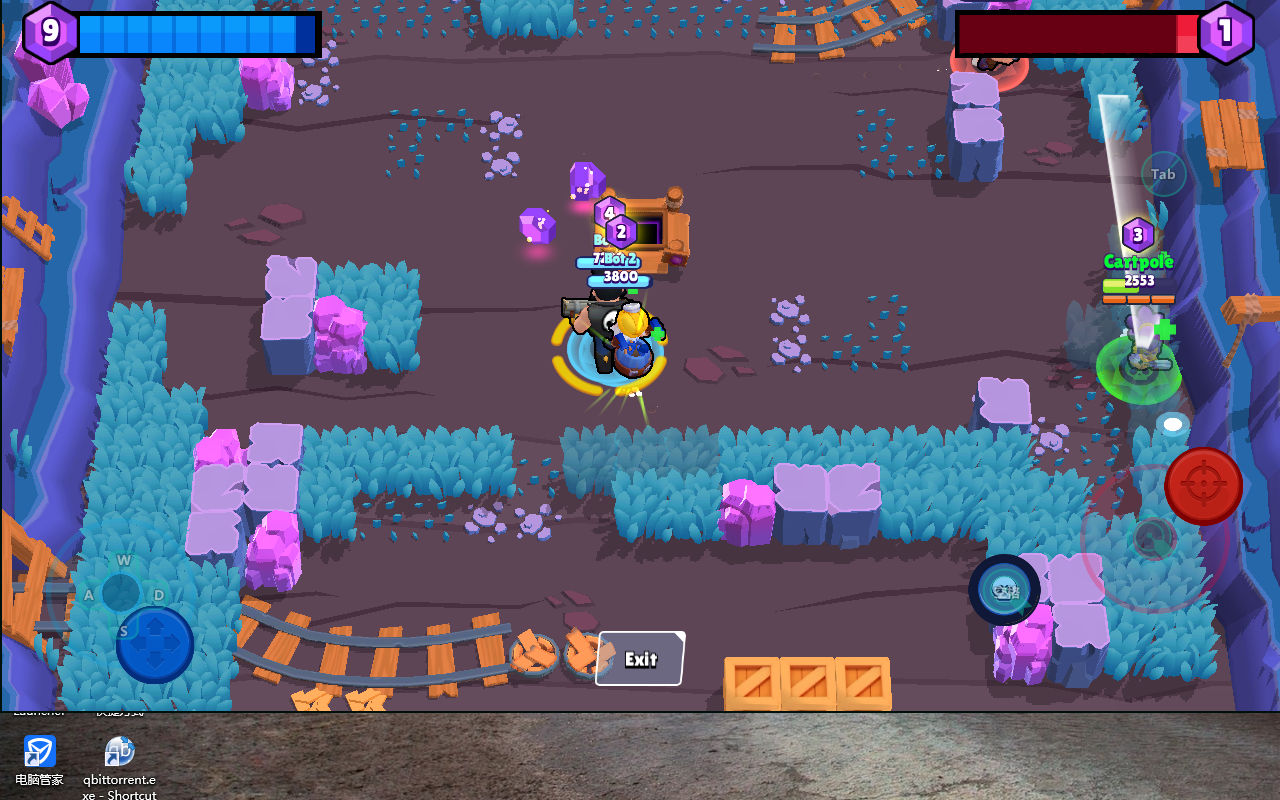current_player: (1097, 329, 1185, 408)
